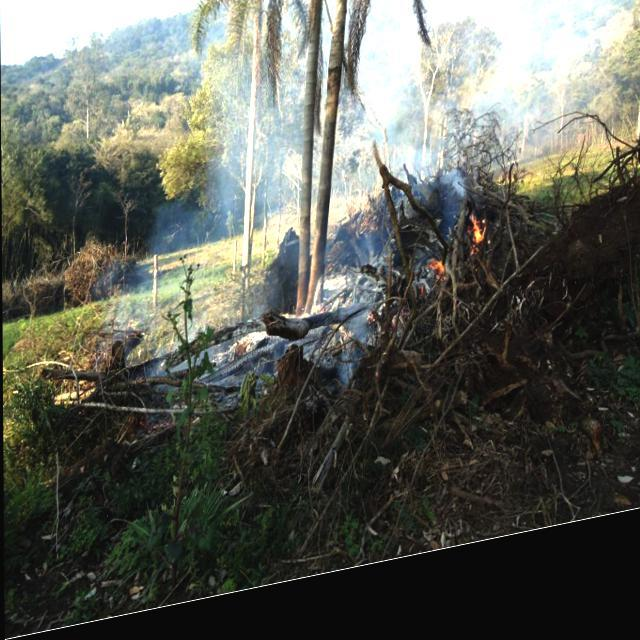Fire: (462, 218, 491, 286), (412, 268, 454, 312)
